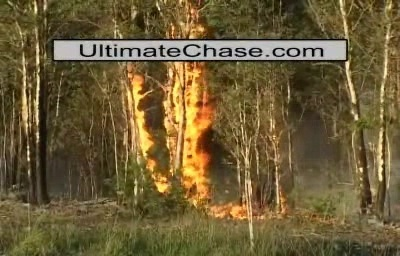fire: (160, 61, 214, 209), (118, 65, 163, 198), (164, 0, 206, 38), (212, 199, 250, 219)
